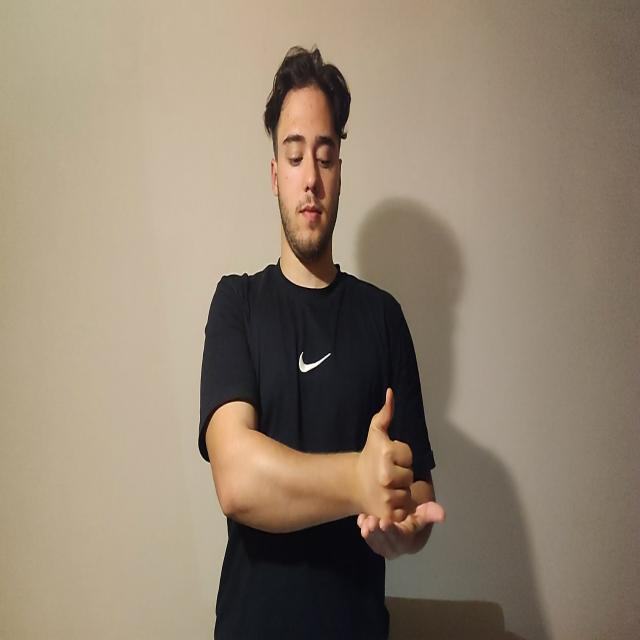help: (351, 385, 448, 559)
